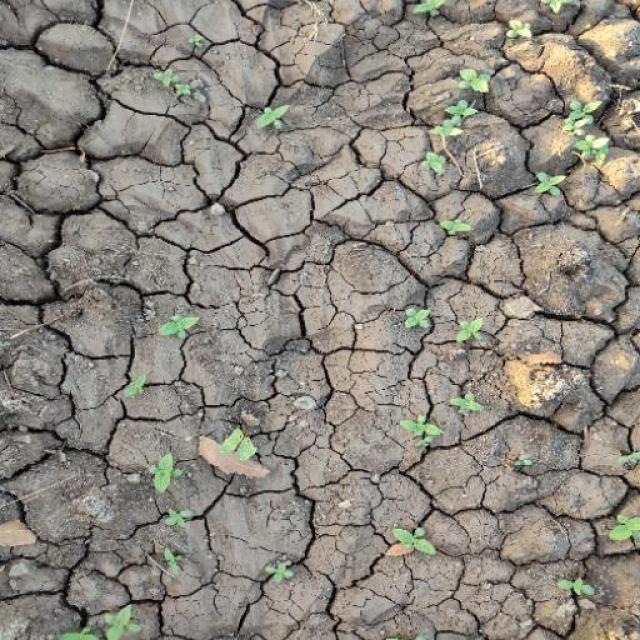crop: (416, 55, 492, 183), (142, 444, 204, 600), (112, 304, 202, 408), (398, 384, 488, 444), (558, 94, 608, 176), (402, 301, 492, 345), (380, 518, 442, 566), (254, 98, 298, 134)
